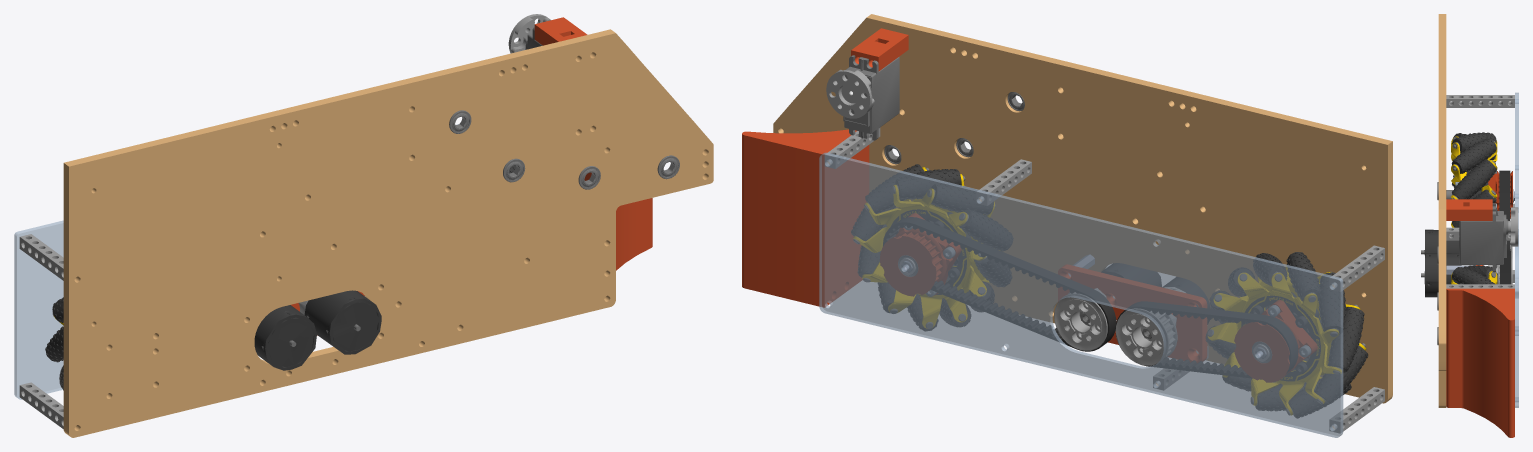
File: left-drive.glb
3 views of the same model, side by side, from view 1: azimuth 30°, elevation 25°; view 2: azimuth 150°, elevation 25°; view 3: azimuth 270°, elevation 25° (orthographic). The views are drawn at different scales.
Parts seen in each view (by area): view 1: part-418, part-410, part-414, part-399, part-392, part-396, part-382, part-411, part-419; view 2: part-418, part-410, part-392, part-555, part-420, part-430, part-405, part-421, part-542, part-380, part-381, part-398 (+19 smaller); view 3: part-392, part-418, part-381, part-410, part-411, part-610, part-396, part-414, part-602, part-380, part-399, part-523 (+11 smaller).
Boxes of the visible parts, box(x1,y1,x2,y2) form: part-418: box(63, 29, 713, 437); part-410: box(14, 124, 458, 399); part-414: box(298, 290, 381, 354); part-399: box(254, 305, 316, 370); part-392: box(584, 172, 652, 270); part-396: box(19, 234, 63, 280); part-382: box(19, 382, 63, 428); part-411: box(534, 17, 587, 45); part-419: box(508, 14, 550, 53); part-418: box(773, 14, 1392, 403); part-410: box(819, 152, 1343, 437); part-392: box(742, 129, 869, 307); part-555: box(1208, 273, 1341, 415); part-420: box(883, 217, 1116, 351); part-430: box(853, 185, 986, 327); part-405: box(1058, 264, 1206, 362); part-421: box(880, 213, 961, 296); part-542: box(1234, 300, 1317, 382); part-380: box(1115, 301, 1298, 378); part-381: box(843, 55, 899, 140); part-398: box(1115, 308, 1177, 365); part-392: box(1446, 288, 1514, 437); part-418: box(1438, 14, 1446, 407); part-381: box(1459, 203, 1508, 272); part-410: box(1515, 92, 1518, 407); part-411: box(1446, 199, 1492, 220); part-610: box(1452, 159, 1496, 199); part-396: box(1446, 95, 1514, 107); part-414: box(1424, 252, 1475, 297); part-602: box(1451, 138, 1496, 173); part-380: box(1499, 170, 1510, 250); part-399: box(1424, 229, 1459, 254); part-523: box(1452, 267, 1494, 284).
Size of the model in its own units: 0.4456 by 0.188 by 0.08.
